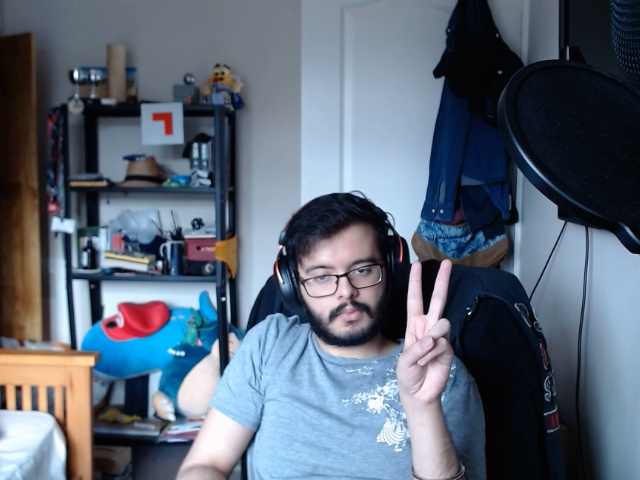Peace: (391, 250, 471, 409)
